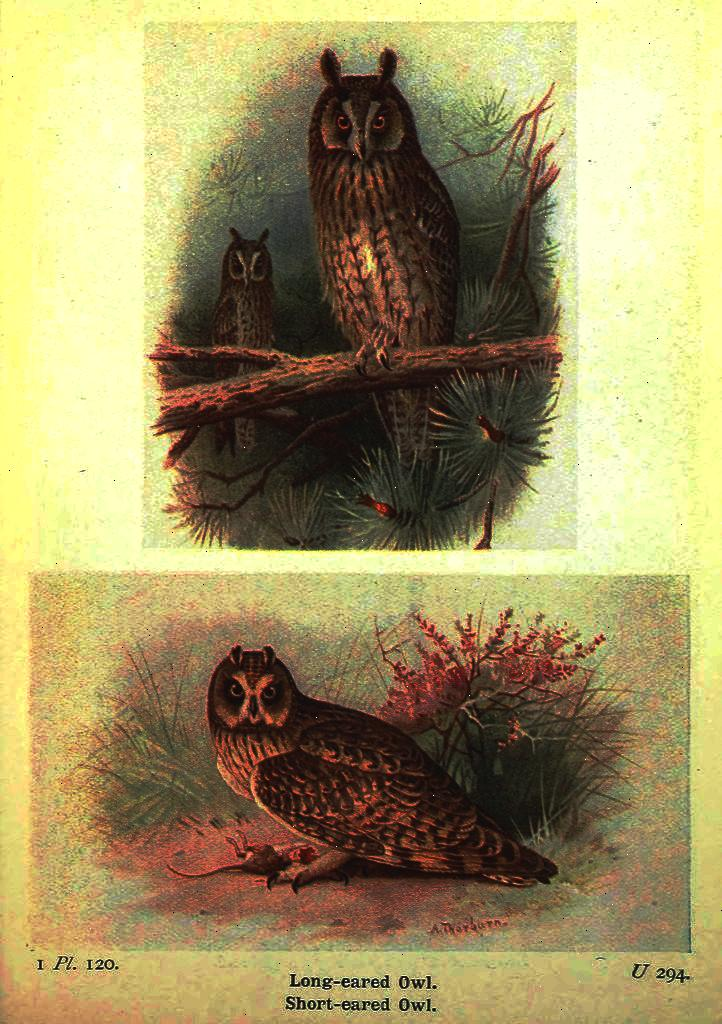Owl: (207, 638, 557, 876), (305, 40, 466, 462), (201, 222, 290, 464)
